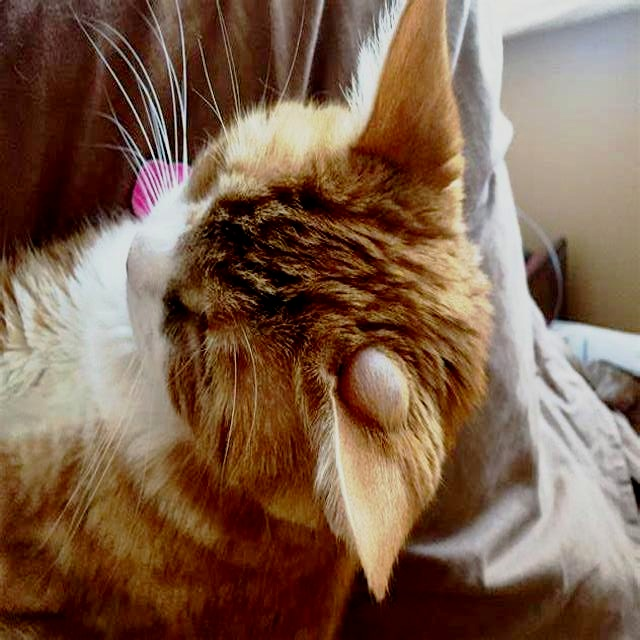lump_and_bump: (342, 350, 413, 422)
